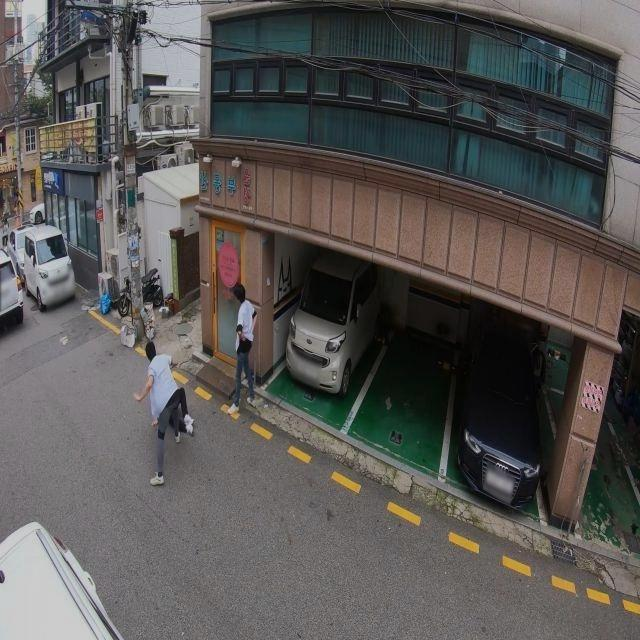fight: (133, 336, 199, 487)
non-fight: (226, 282, 261, 414)
